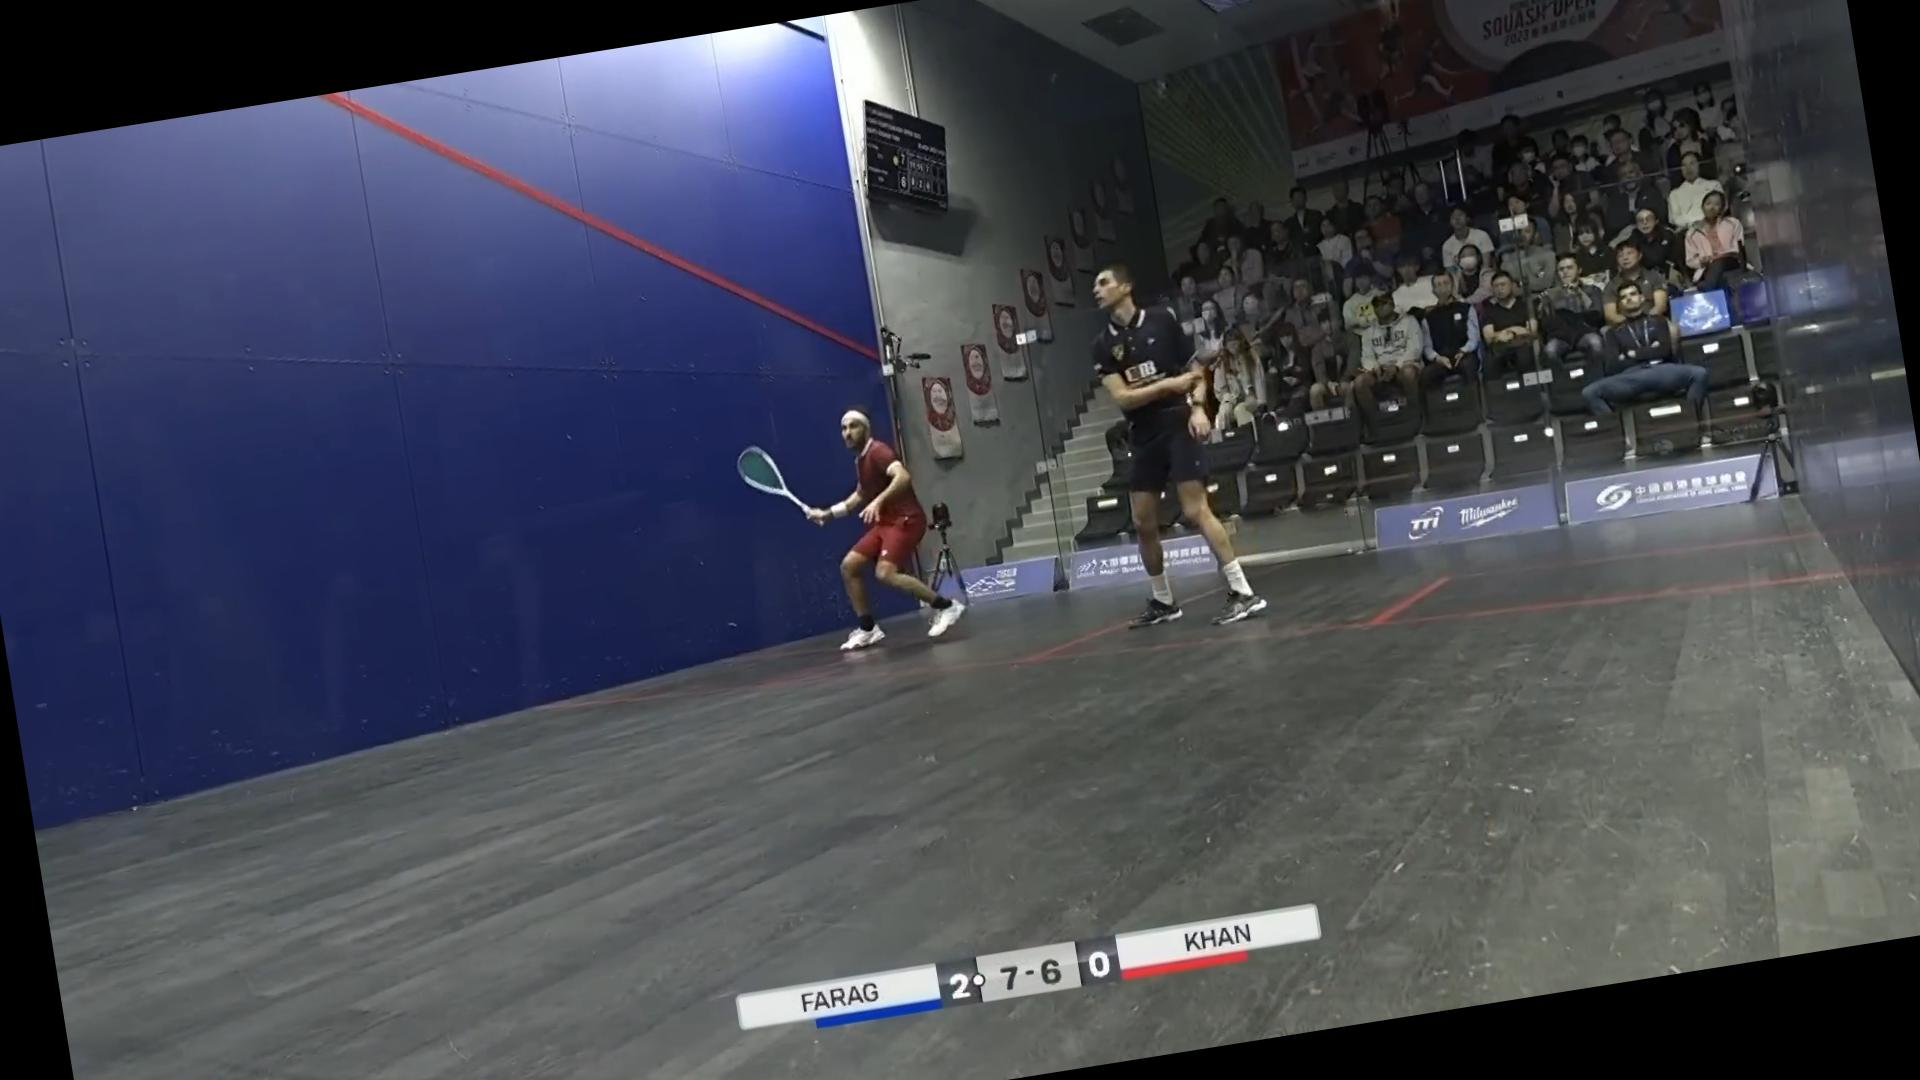Racket: (731, 422, 811, 521)
